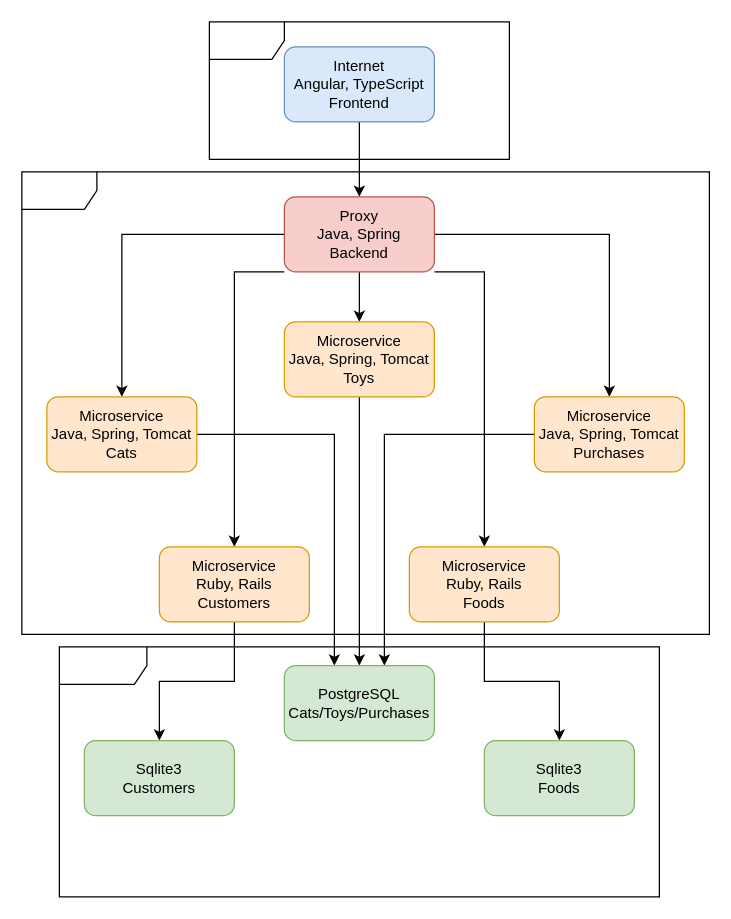
Image size: 731x919. Some labels were removed from this diagram. The shapes that lost their labels are listed below. From the top down, each one's centre as x and y in pixels, then its label:
At point 358,90: "Internet".
At point 365,402: "Services".
At point 358,771: "Databases".
